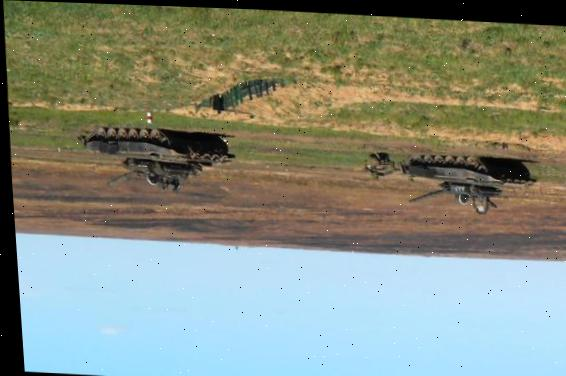tank: (80, 122, 239, 195), (400, 150, 540, 218)
